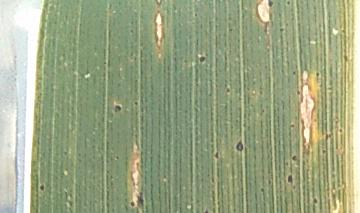tarspot: (233, 139, 246, 154), (126, 197, 139, 211), (111, 102, 123, 115), (284, 172, 295, 186), (37, 181, 47, 194), (197, 52, 207, 65), (212, 150, 222, 162), (264, 1, 277, 10), (289, 153, 298, 164), (311, 195, 319, 206)
